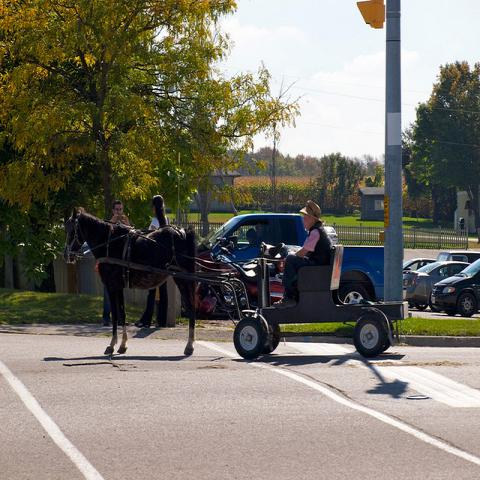car: (429, 256, 479, 318), (406, 261, 468, 307), (402, 259, 436, 294), (435, 250, 480, 263)
motorcycle: (195, 242, 302, 317)
truck: (208, 214, 385, 302)
